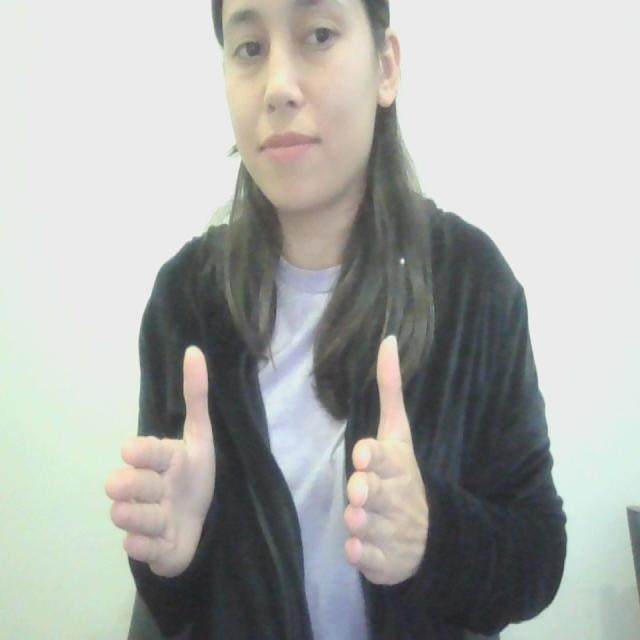Nasil: (104, 331, 428, 592)
